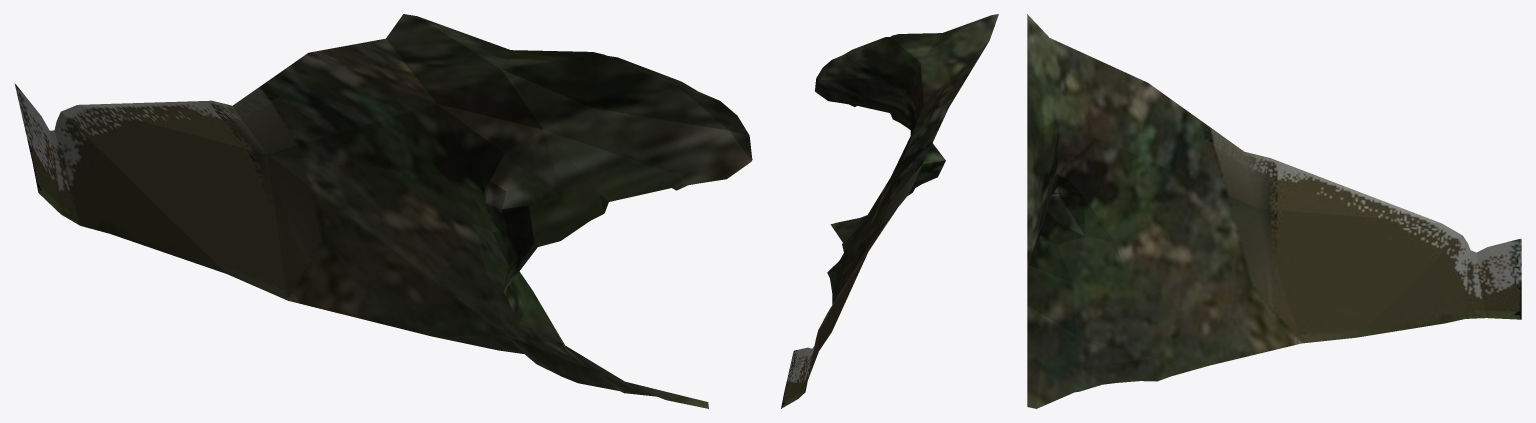
The picture shows the model from 3 angles, left to right: view 1: azimuth 30°, elevation 25°; view 2: azimuth 150°, elevation 25°; view 3: azimuth 270°, elevation 25°; orthographic projection. The views are drawn at different scales.
Bounding box in the file's own units: 0.8677 × 1.12 × 1.67.
2 materials, 2 textured.
